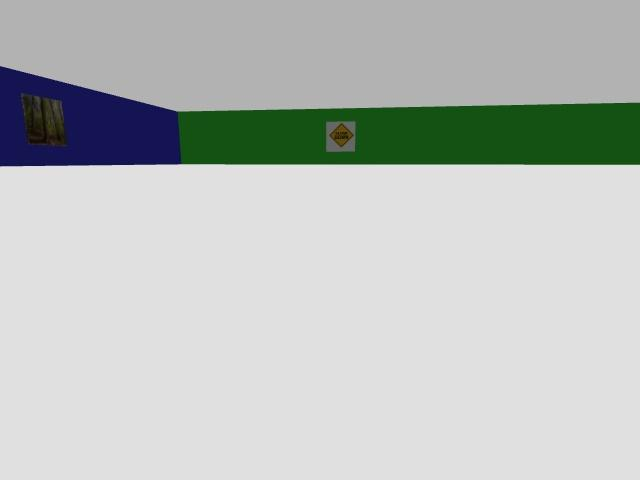slowsign: (326, 122, 355, 151)
tree: (21, 94, 41, 143), (42, 98, 60, 140), (40, 98, 52, 144)
